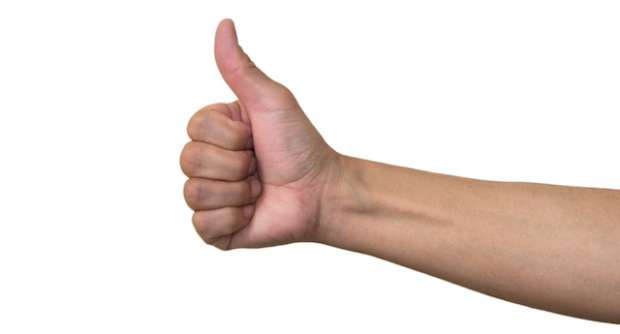finger: (175, 140, 260, 181), (184, 105, 256, 150), (179, 174, 267, 206), (187, 204, 255, 236)
